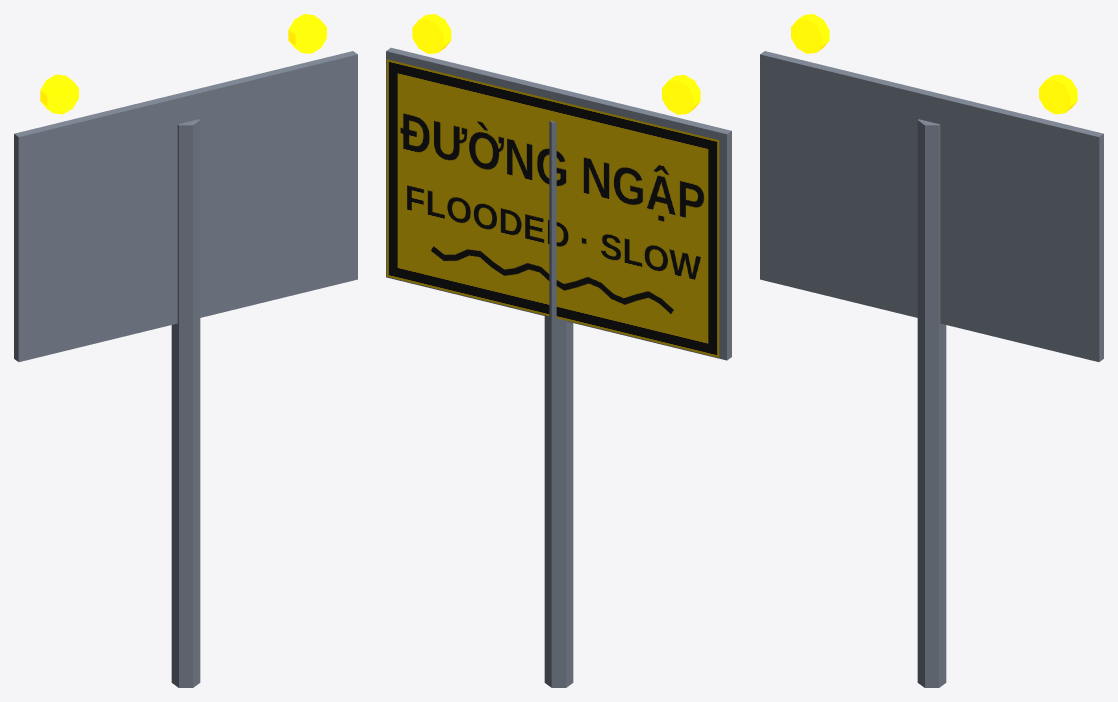
The model's file is flood_sign.glb.
3 renders of one model, left to right at view 1: azimuth 30°, elevation 25°; view 2: azimuth 150°, elevation 25°; view 3: azimuth 330°, elevation 25°, orthographic.
Visible parts, largest first — view 1: flood_sign; view 2: flood_sign; view 3: flood_sign.
Part boxes in pixels (box(x1,y1,x2,y2)): flood_sign: box(14, 14, 357, 687); flood_sign: box(386, 14, 731, 687); flood_sign: box(760, 14, 1103, 687).
Size of the model in its own units: 1.64 by 2.93 by 0.12.
Materials: 3 (1 with a texture image).
